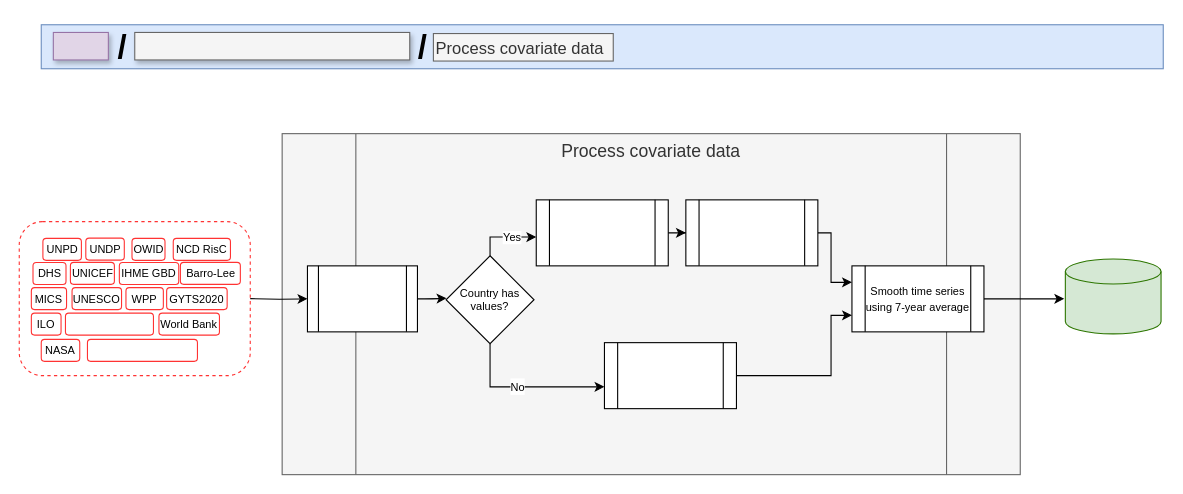
The diagram is 1183 pixels wide and 494 high, and some of its shapes have lost their labels. The centre of each missing label's shape, as x and y in pixels:
"Clean, Reshape" goes at pixel 361 298.
"Constant backwards and forwards extrapolation" goes at pixel 751 232.
"Covariates for prediction" goes at pixel 1112 296.
"Data procurement and processing" goes at pixel 272 47.
"Home" goes at pixel 81 47.
"Impute with regression based on lagged GDP and World Bank region" goes at pixel 669 375.
"Linear interpolation" goes at pixel 601 232.
"Malaria Atlas Project" goes at pixel 141 349.
"Transparency.org" goes at pixel 108 323.
